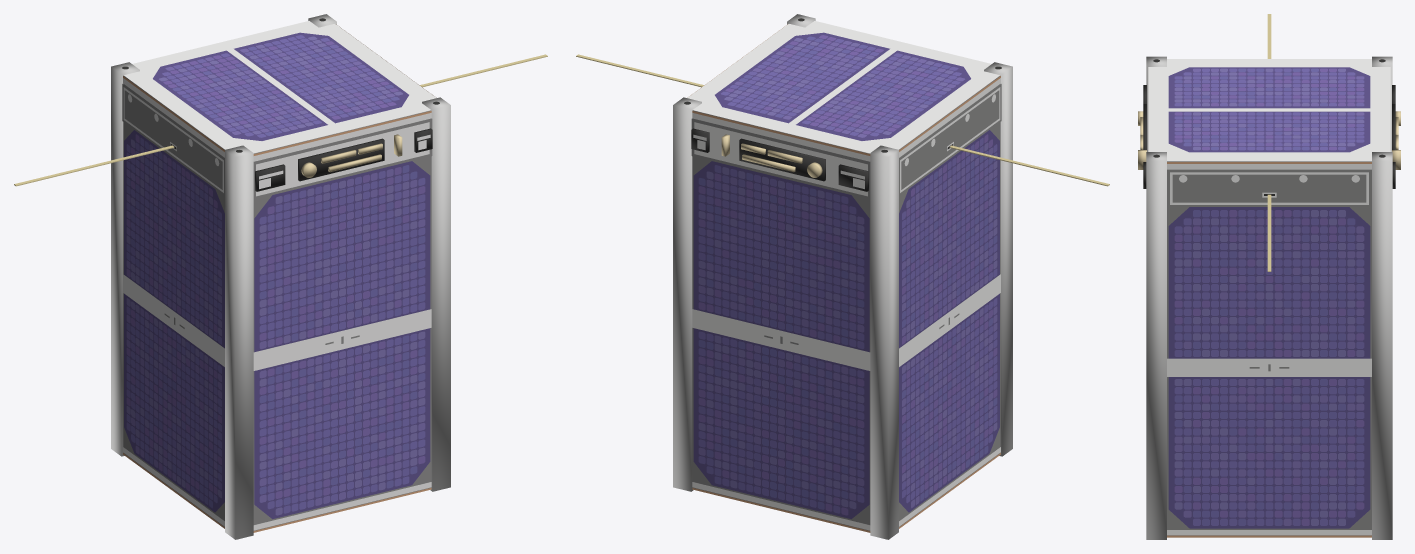
File: 1.5U_CubeSat.glb
3 renders of one model, left to right at view 1: azimuth 30°, elevation 25°; view 2: azimuth 150°, elevation 25°; view 3: azimuth 270°, elevation 25°, orthographic.
Parts seen in each view (by area): view 1: Face -Y, Face -X, Top end, Corner rail, Corner rail.002, Corner rail.001, Black connector block -Y 2; view 2: Face +Y, Face -X, Top end, Corner rail.001, Corner rail.003, Corner rail, Black connector block +Y 2; view 3: Face +X, Top end, Corner rail.002, Corner rail.003, Corner rail, Corner rail.001, Tape antenna +X.
Part boxes in pixels (x1,y1,x2,y2): Face -Y: [253, 110, 432, 532]; Face -X: [122, 76, 224, 528]; Top end: [124, 21, 436, 153]; Corner rail: [225, 145, 253, 539]; Corner rail.002: [422, 97, 450, 491]; Corner rail.001: [111, 62, 139, 456]; Black connector block -Y 2: [298, 138, 384, 181]; Face +Y: [691, 110, 870, 532]; Face -X: [899, 76, 1001, 528]; Top end: [687, 21, 999, 153]; Corner rail.001: [870, 145, 898, 539]; Corner rail.003: [673, 97, 701, 491]; Corner rail: [984, 62, 1012, 456]; Black connector block +Y 2: [739, 138, 825, 181]; Face +X: [1167, 161, 1371, 537]; Top end: [1148, 59, 1390, 161]; Corner rail.002: [1146, 152, 1166, 539]; Corner rail.003: [1372, 152, 1392, 539]; Corner rail: [1146, 56, 1166, 151]; Corner rail.001: [1372, 56, 1392, 151]; Tape antenna +X: [1267, 194, 1271, 271].
Size of the model in its own units: 0.2468 by 0.1698 by 0.1066.
